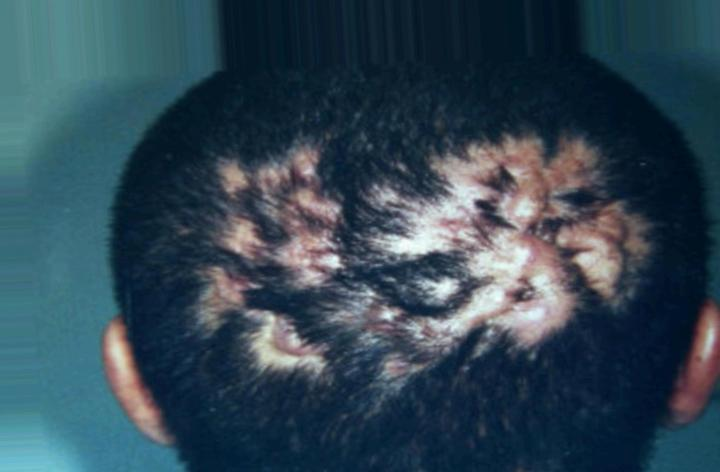Folliculitis: (197, 135, 627, 382)
